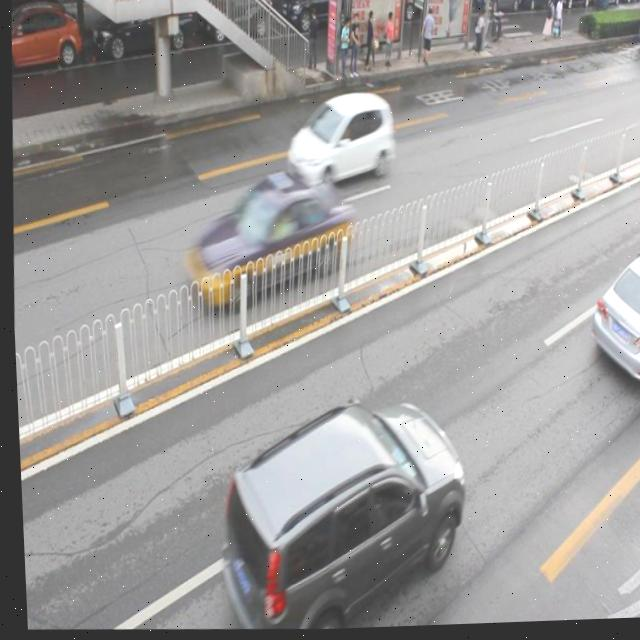car: (211, 395, 466, 634), (181, 169, 353, 311), (282, 89, 395, 191), (582, 252, 640, 385), (87, 0, 193, 64), (9, 2, 83, 76), (195, 0, 272, 43), (275, 0, 351, 40)
van: (635, 0, 640, 55)
